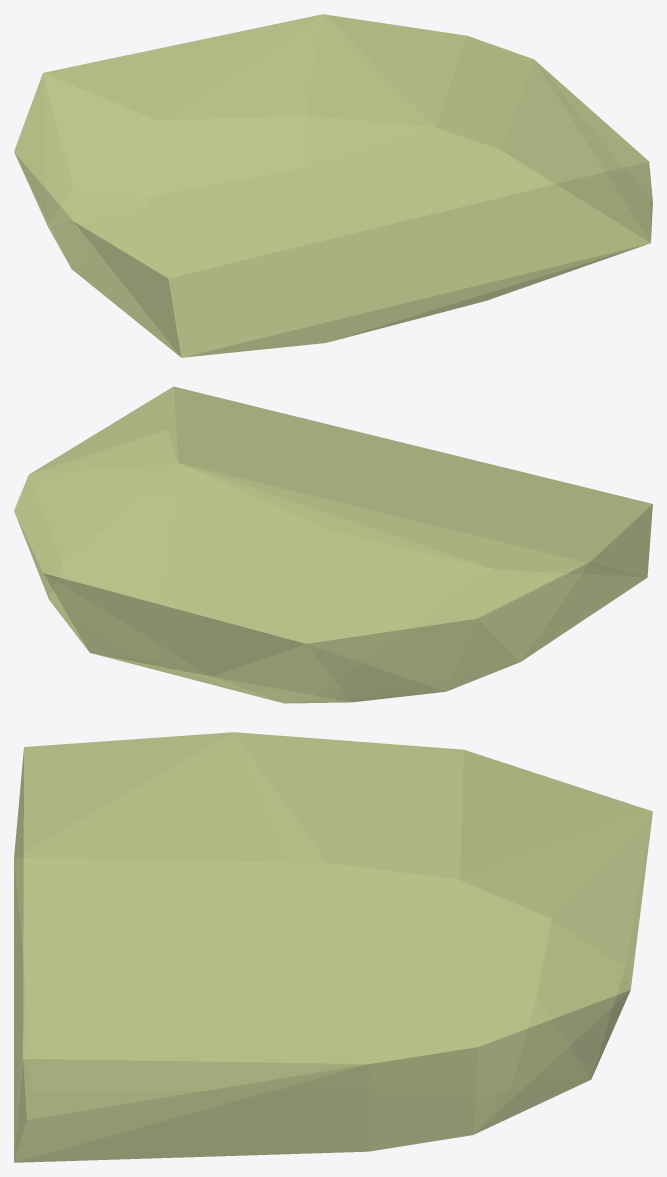
The picture shows the model from 3 angles, top to bottom: view 1: azimuth 30°, elevation 25°; view 2: azimuth 150°, elevation 25°; view 3: azimuth 270°, elevation 25°; orthographic projection. The views are drawn at different scales.
Parts seen in each view (by area): view 1: Shape_IndexedFaceSet.002_Shape_IndexedFaceSet.7488; view 2: Shape_IndexedFaceSet.002_Shape_IndexedFaceSet.7488; view 3: Shape_IndexedFaceSet.002_Shape_IndexedFaceSet.7488.
Boxes of the visible parts, bbox=[...] form: Shape_IndexedFaceSet.002_Shape_IndexedFaceSet.7488: bbox=[14, 14, 652, 357]; Shape_IndexedFaceSet.002_Shape_IndexedFaceSet.7488: bbox=[14, 386, 652, 703]; Shape_IndexedFaceSet.002_Shape_IndexedFaceSet.7488: bbox=[14, 732, 652, 1162].
Bounding box in the file's own units: 0.4422 × 0.0903 × 0.3597.
